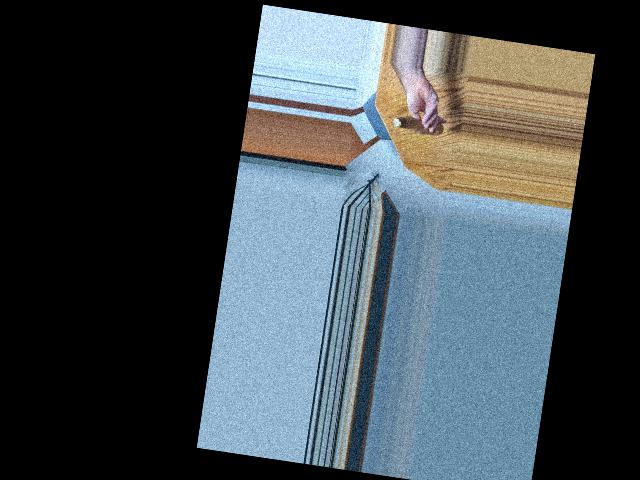sweet_potato: (397, 116, 440, 141)
